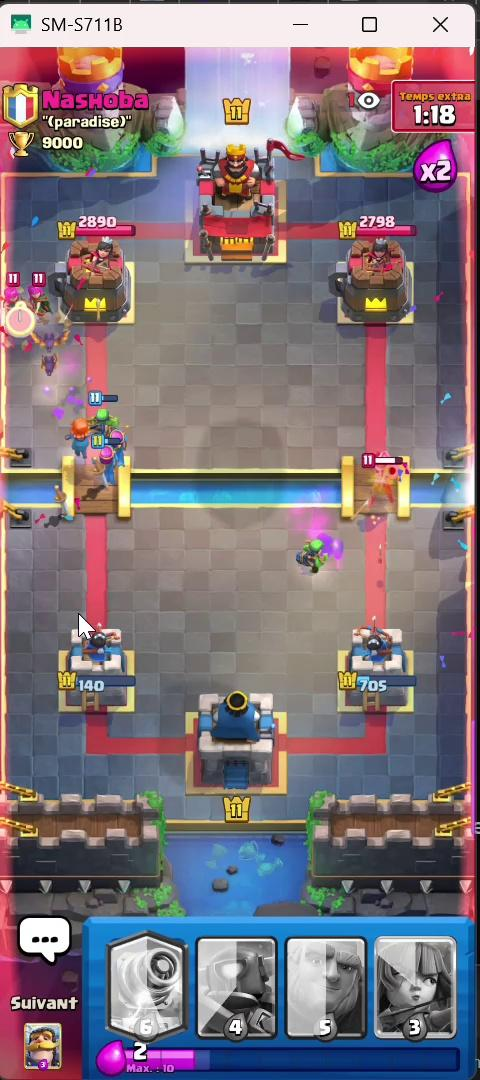archere: (89, 441, 122, 482), (29, 267, 53, 316), (0, 279, 28, 316), (114, 424, 130, 473)
bat: (30, 352, 88, 389), (32, 316, 71, 355)
gobelin_lances: (296, 531, 344, 592), (99, 399, 121, 441)
mousquetaire: (366, 449, 407, 512)
valkyrie: (56, 419, 98, 462)
